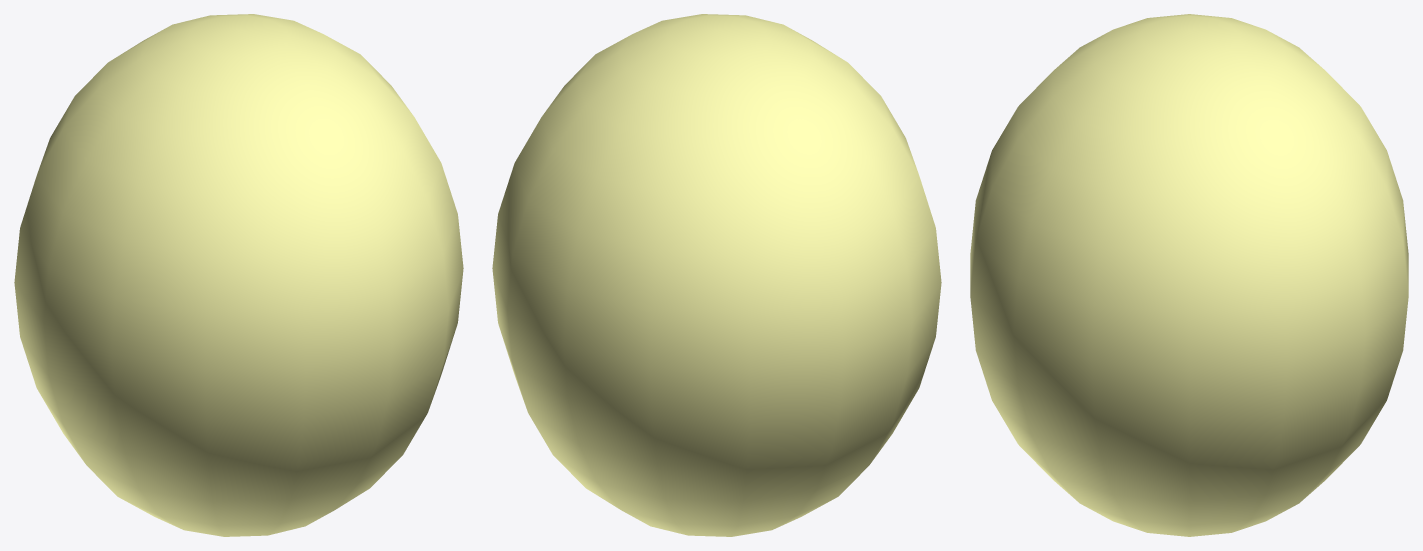
The model's file is Lumifae_stage3.obj.
3 views of the same model, side by side, from view 1: azimuth 30°, elevation 25°; view 2: azimuth 150°, elevation 25°; view 3: azimuth 270°, elevation 25° (orthographic).
Bounding box in the file's own units: 2.6 × 3.12 × 2.53.
